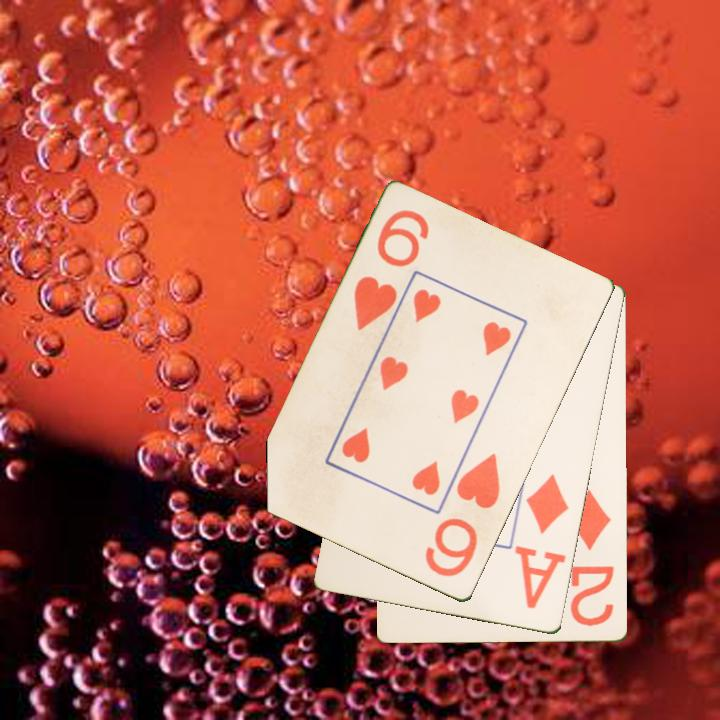2d: (565, 486, 617, 630)
6h: (421, 449, 503, 581), (350, 206, 433, 334)
Ad: (512, 470, 573, 612)
